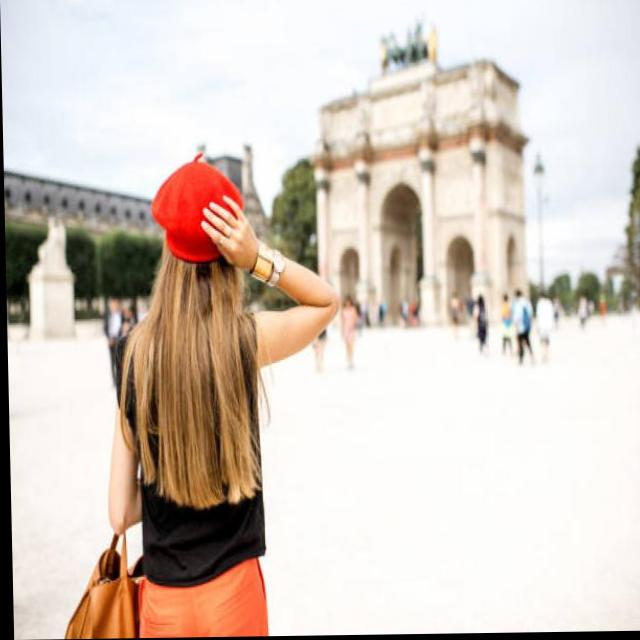no helmet: (137, 123, 263, 329)
